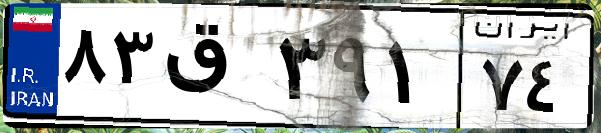1: (385, 28, 445, 110)
3: (270, 28, 330, 110), (110, 28, 158, 98)
4: (525, 38, 570, 115)
7: (475, 38, 525, 113)
8: (57, 26, 110, 100)
9: (330, 28, 385, 110)
ق: (158, 20, 270, 120)
